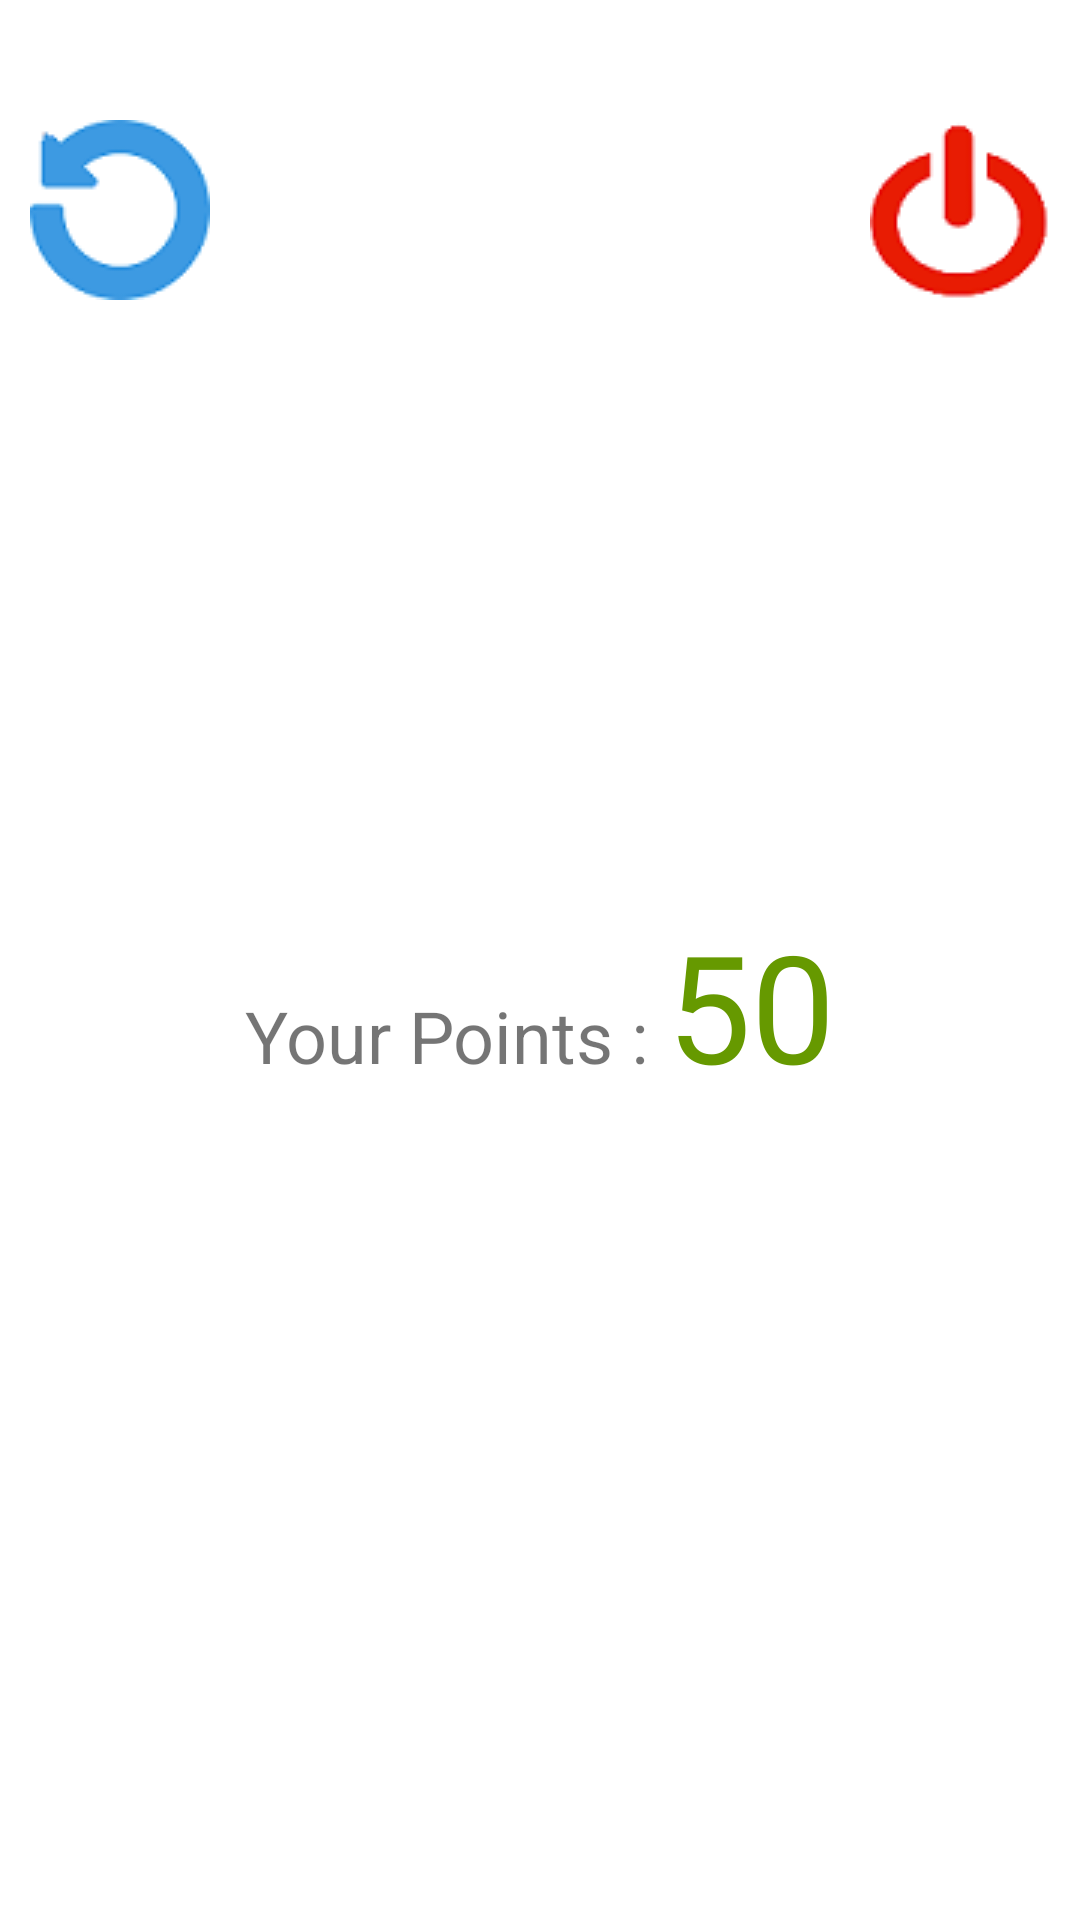

Icon click points for this 1080px×1920px phone screenshot, format (x,y):
exit: (959,211)
restart: (120,210)
